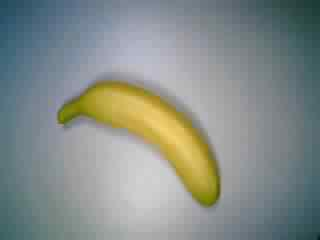banana: (49, 74, 227, 214)
